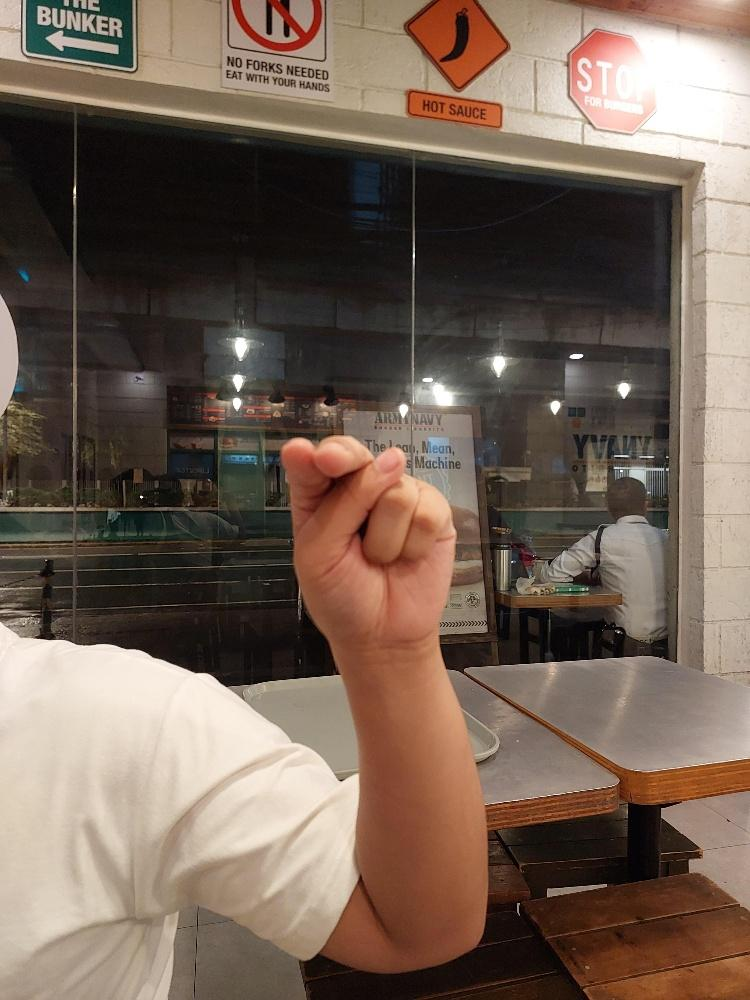n: (276, 432, 459, 653)
